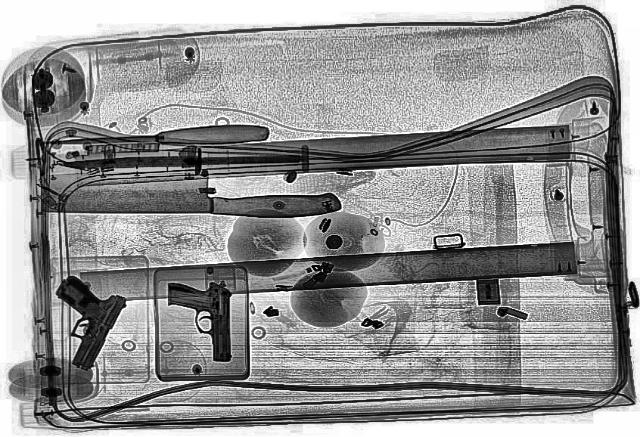Gun: (18, 272, 134, 370), (164, 280, 236, 362)
Knife: (37, 164, 340, 218), (40, 123, 268, 150), (57, 150, 303, 170)
